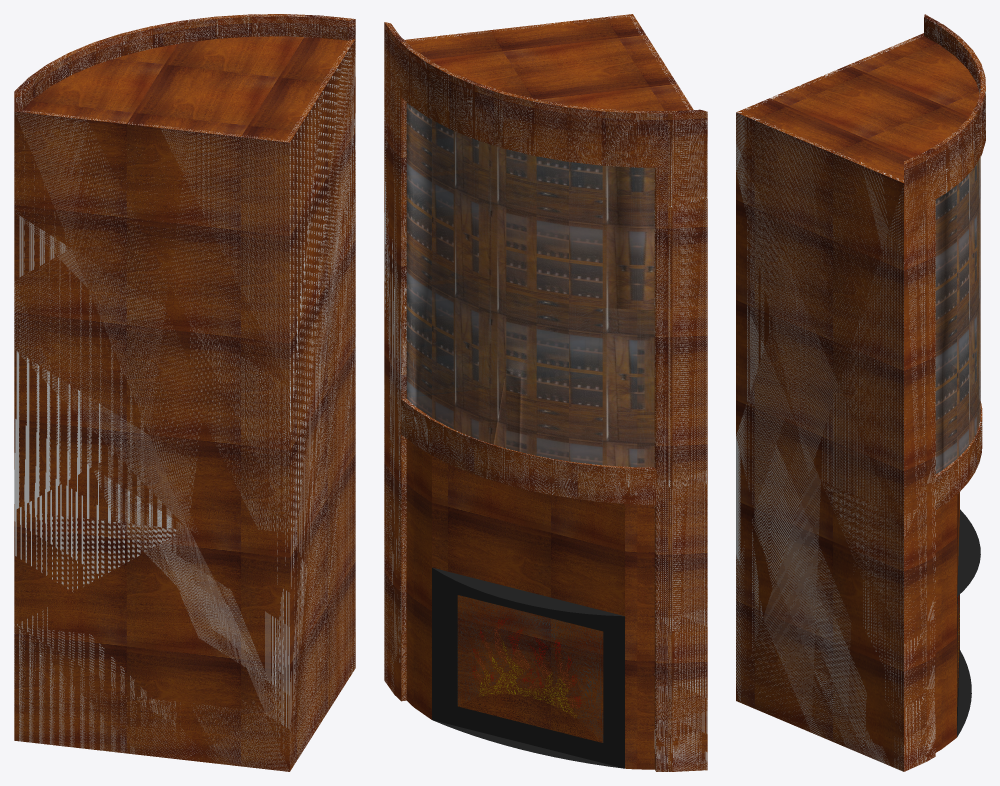
3 renders of one model, left to right at view 1: azimuth 30°, elevation 25°; view 2: azimuth 150°, elevation 25°; view 3: azimuth 270°, elevation 25°, orthographic. The views are drawn at different scales.
Visible parts, largest first — view 1: mesh1_mesh1-geometry; view 2: mesh1_mesh1-geometry; view 3: mesh1_mesh1-geometry.
Part boxes in pixels (x1,y1,x2,y2): mesh1_mesh1-geometry: (14, 14, 355, 771); mesh1_mesh1-geometry: (384, 14, 707, 771); mesh1_mesh1-geometry: (736, 14, 985, 771).
Bounding box in the file's own units: 0.4462 × 0.8386 × 0.3126.
